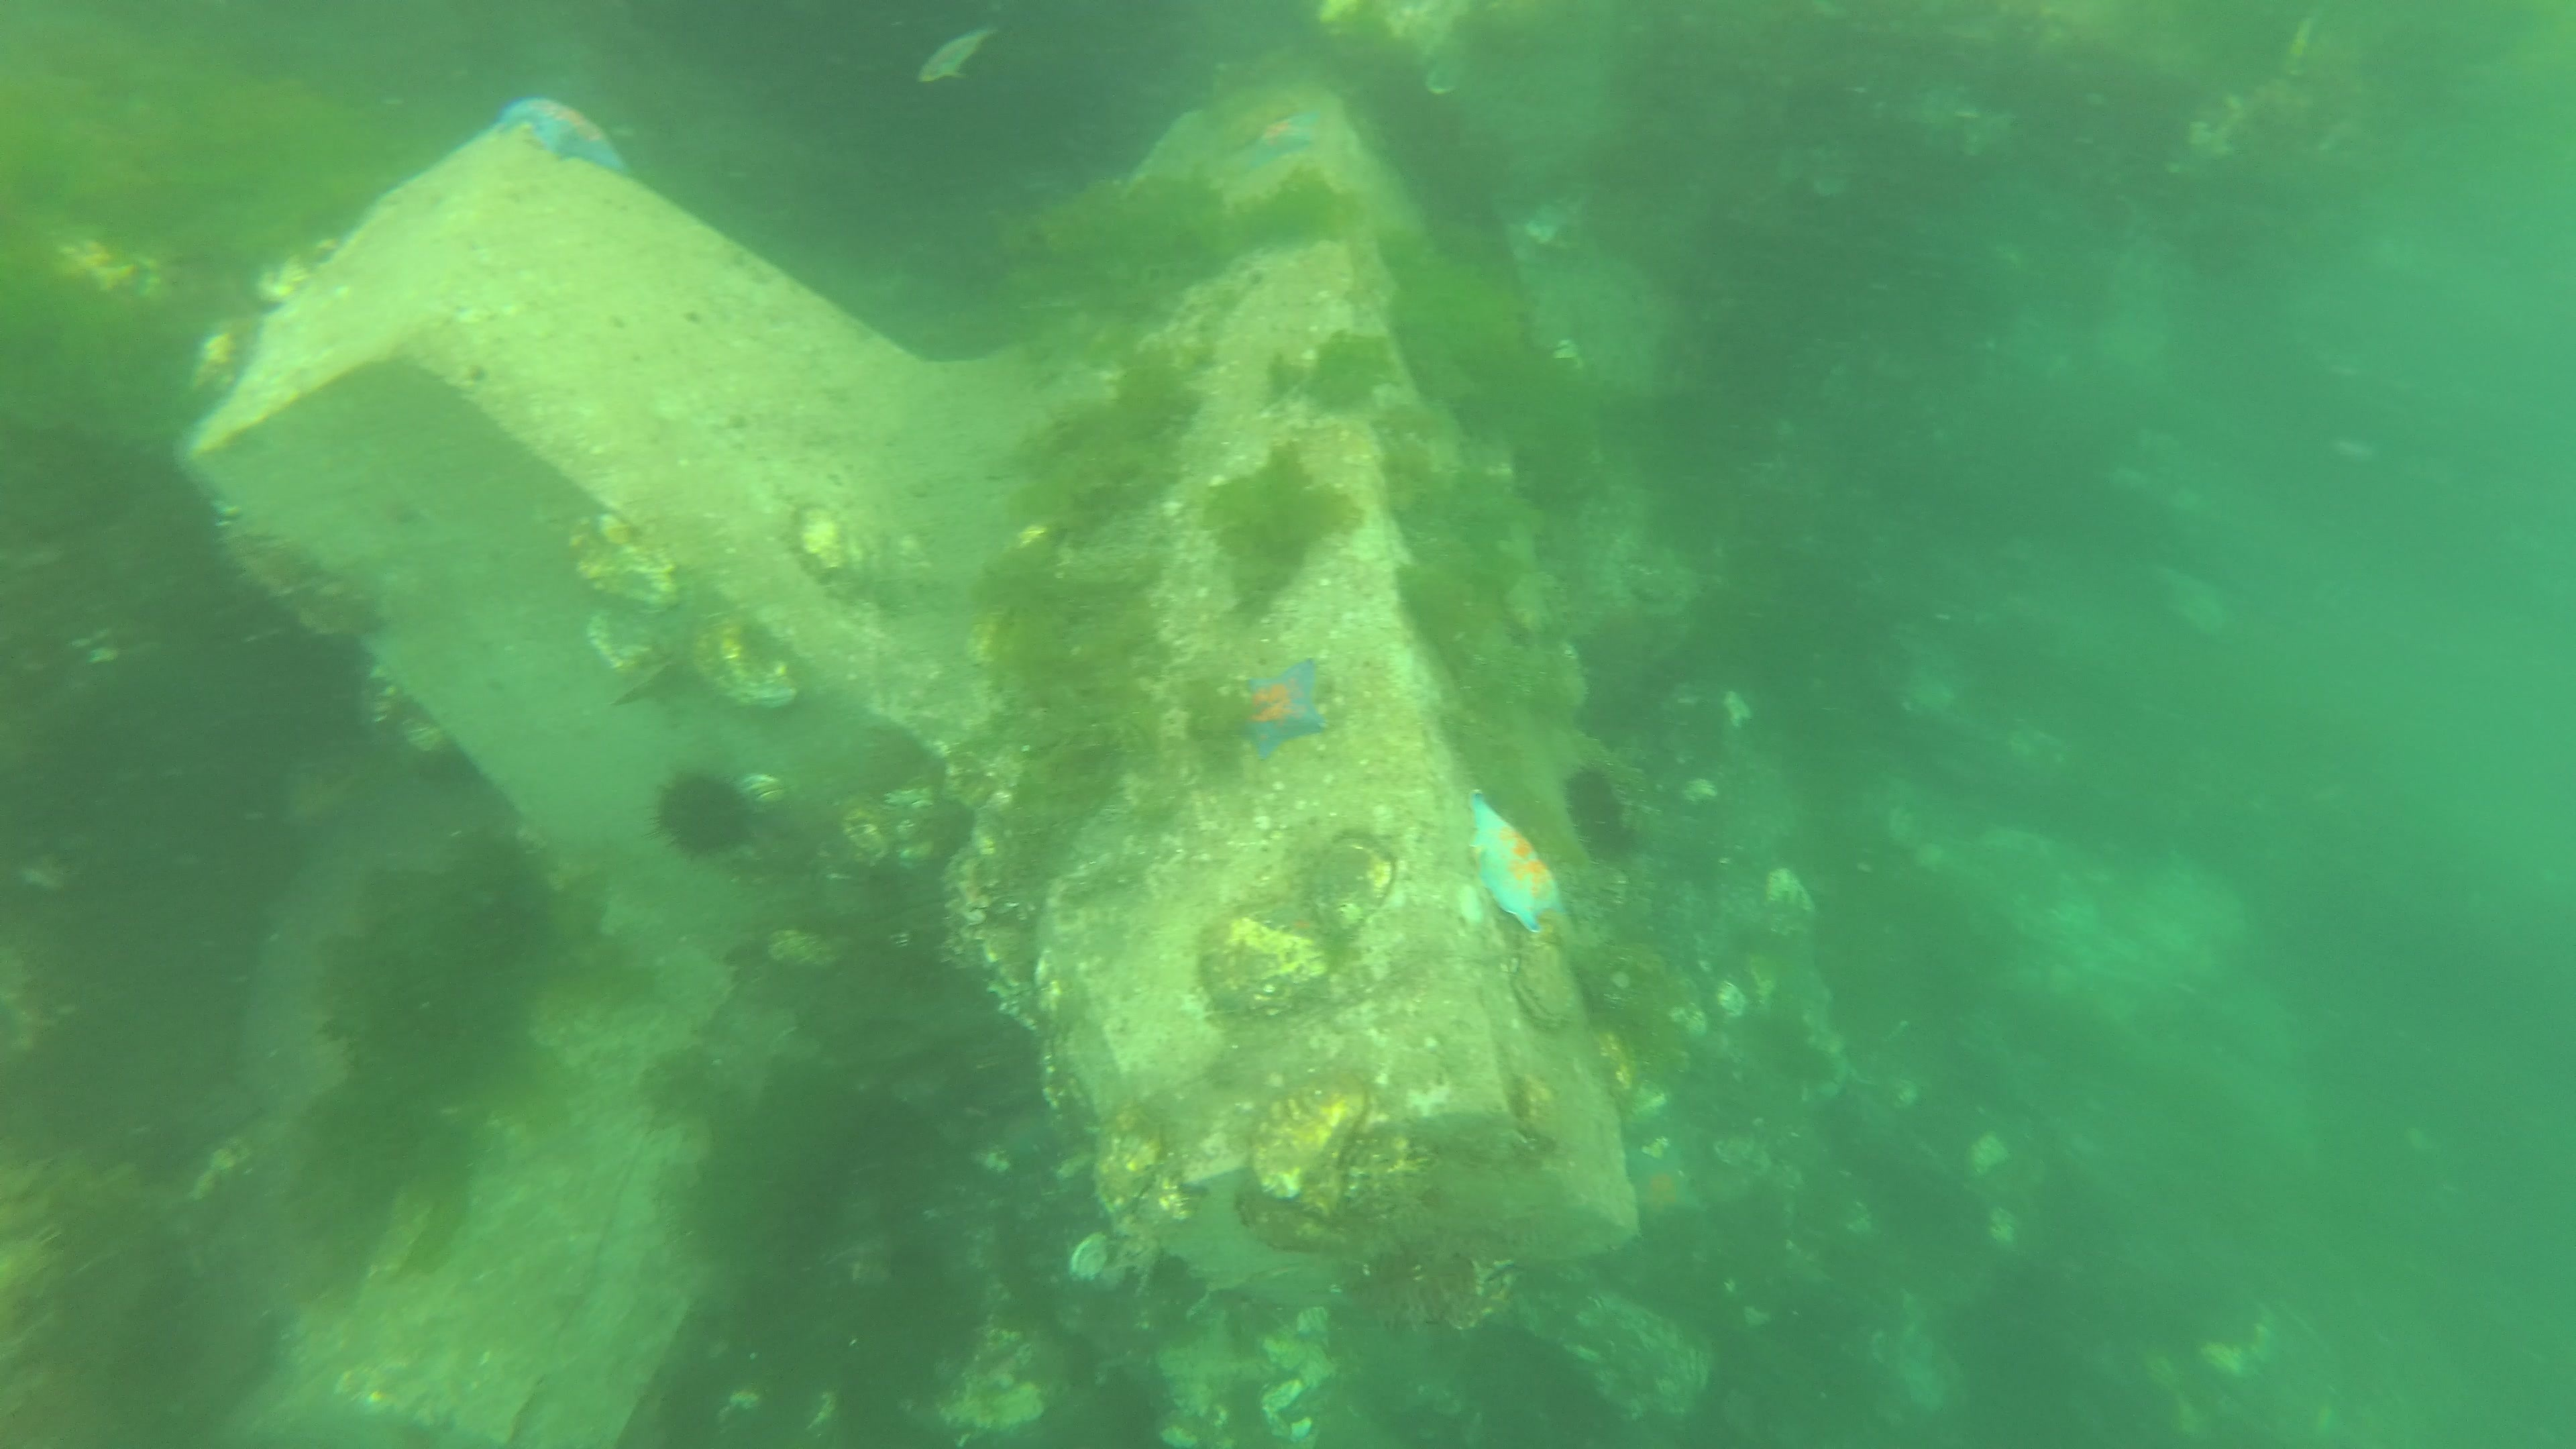echinus: (648, 771, 768, 863)
starfish: (1465, 784, 1571, 936), (492, 94, 635, 175), (1230, 656, 1330, 766), (1624, 1143, 1713, 1240), (1235, 106, 1322, 173)
